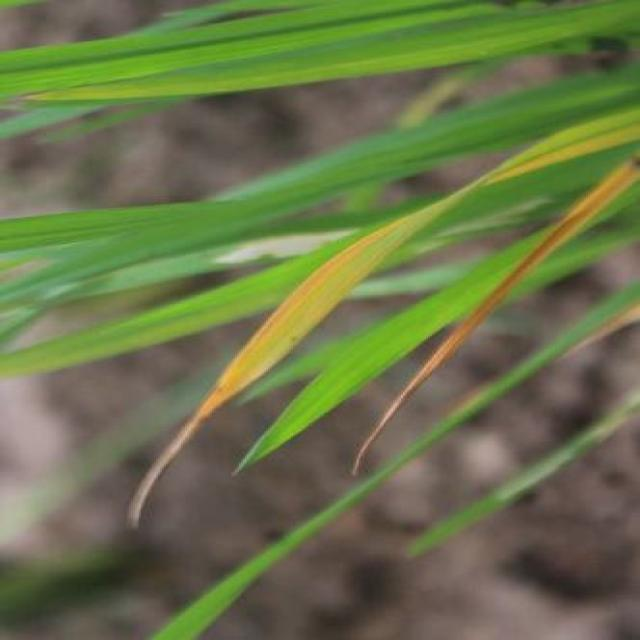Rice Tungro: (457, 213, 569, 344), (120, 442, 216, 549)
